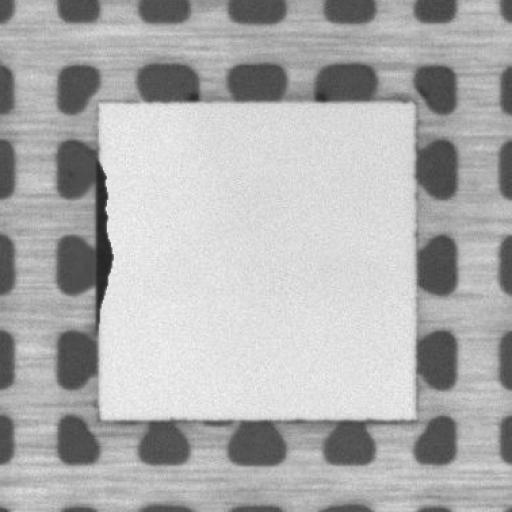DIE_BROKEN: (90, 161, 115, 335)
